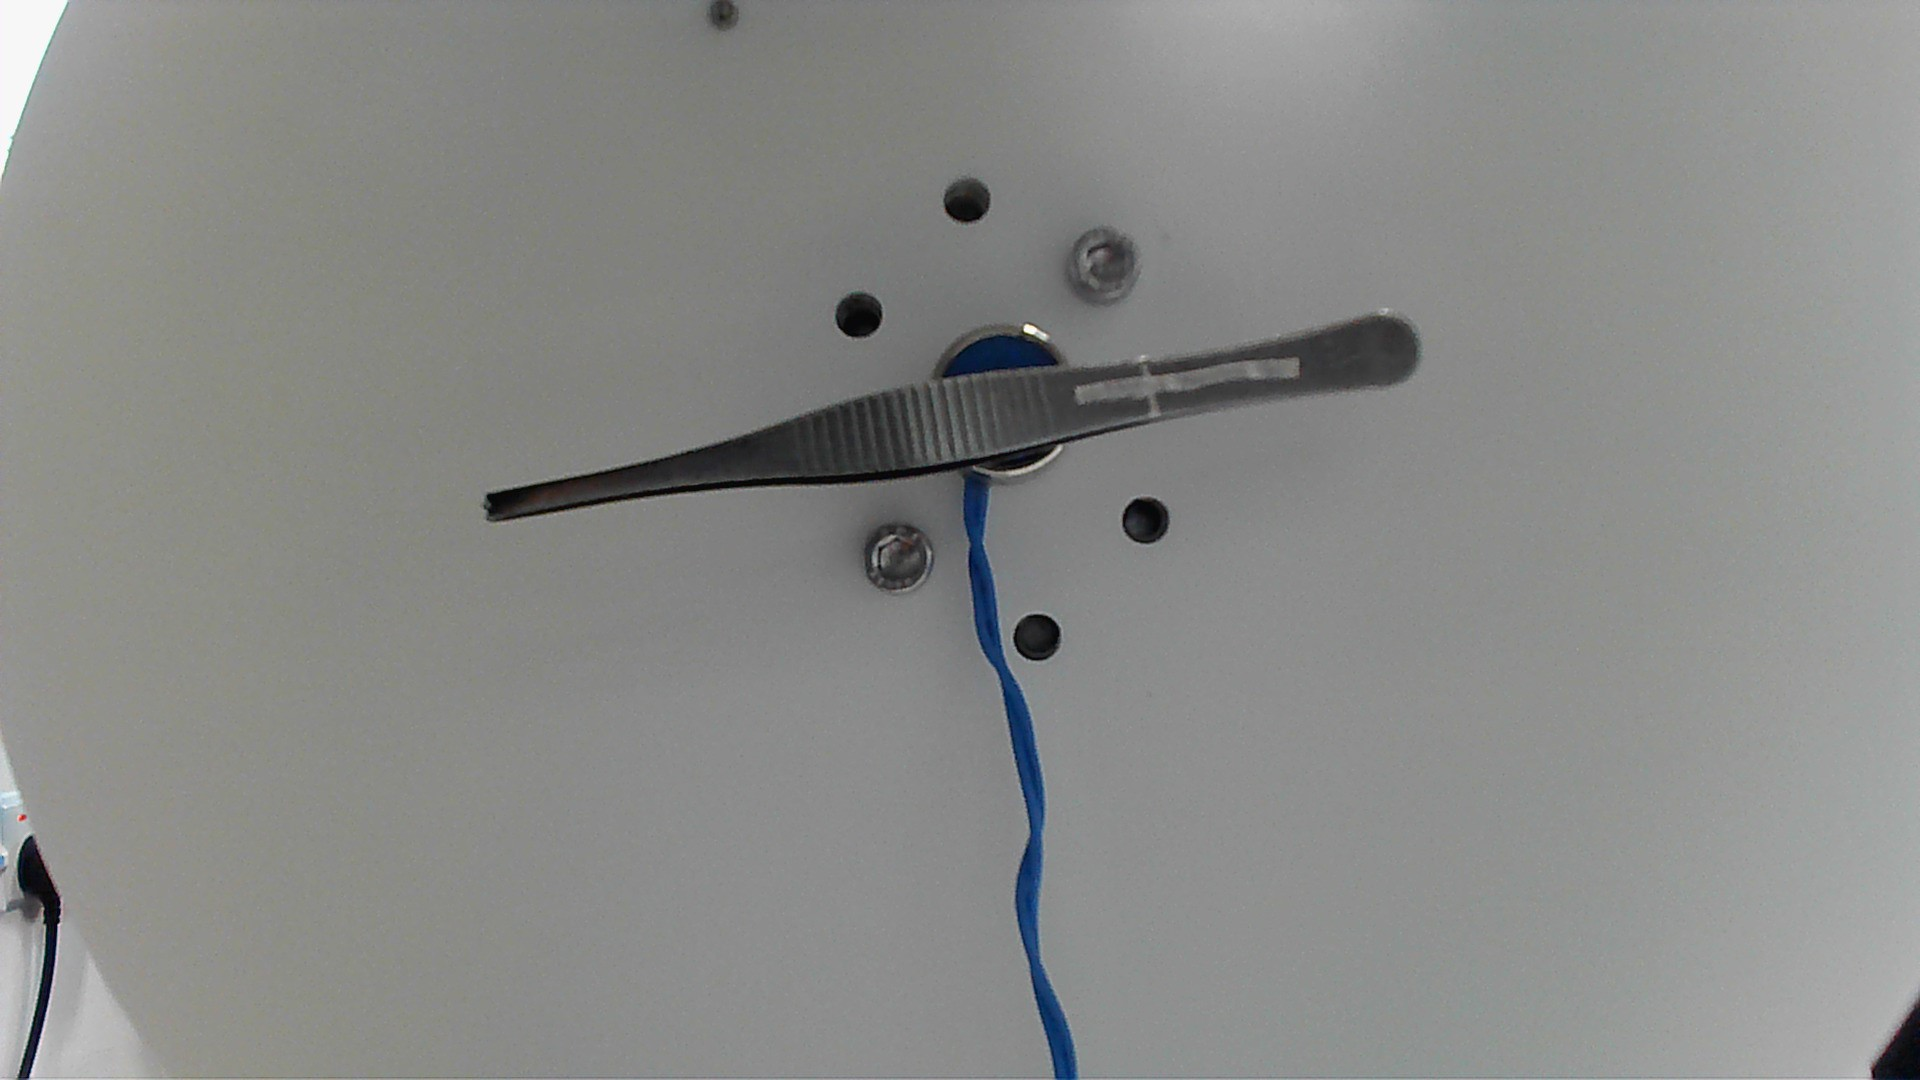Scratches: (1064, 349, 1307, 404)
